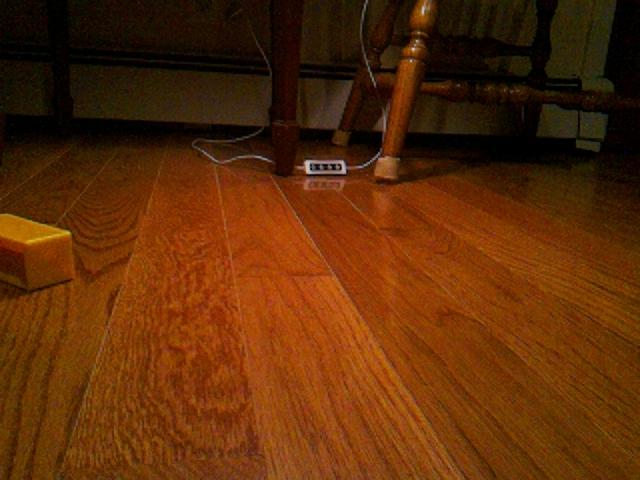yellow: (1, 211, 77, 292)
